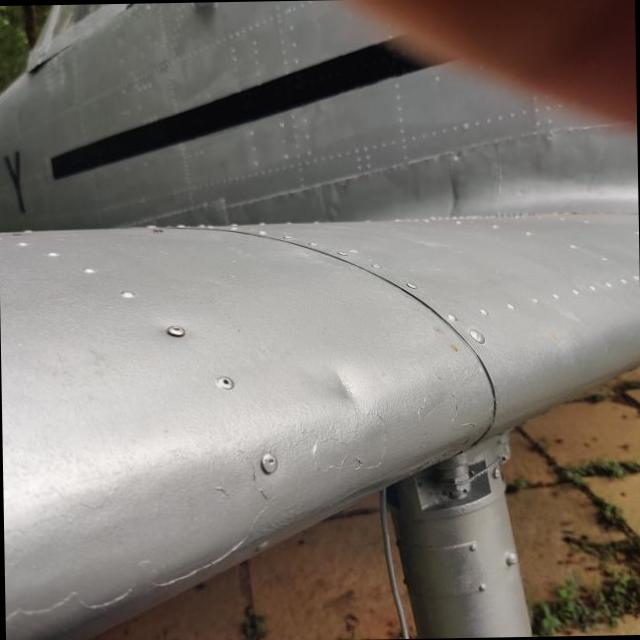Dent: (291, 340, 388, 446)
